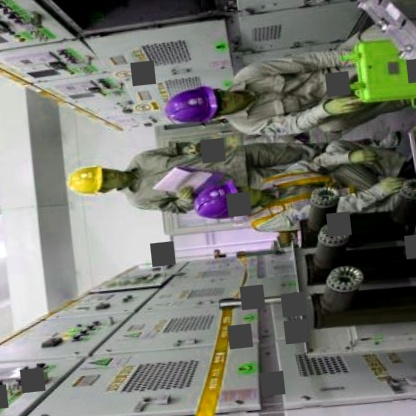blue: (158, 81, 224, 130), (190, 175, 245, 225)
vest: (240, 161, 348, 234)
